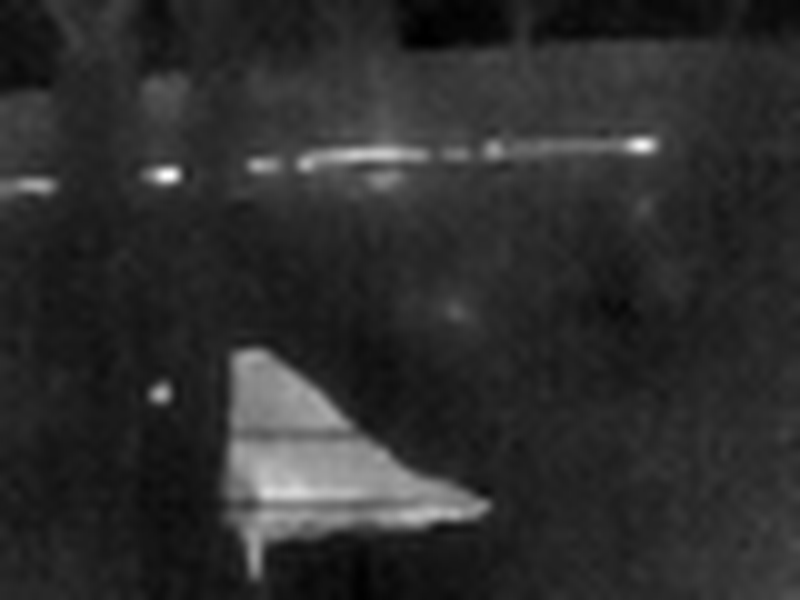elephant: (117, 347, 483, 562)
